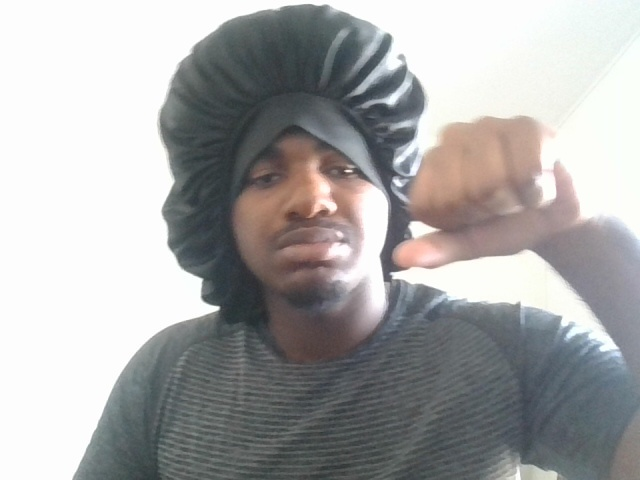Yes: (373, 106, 606, 290)
